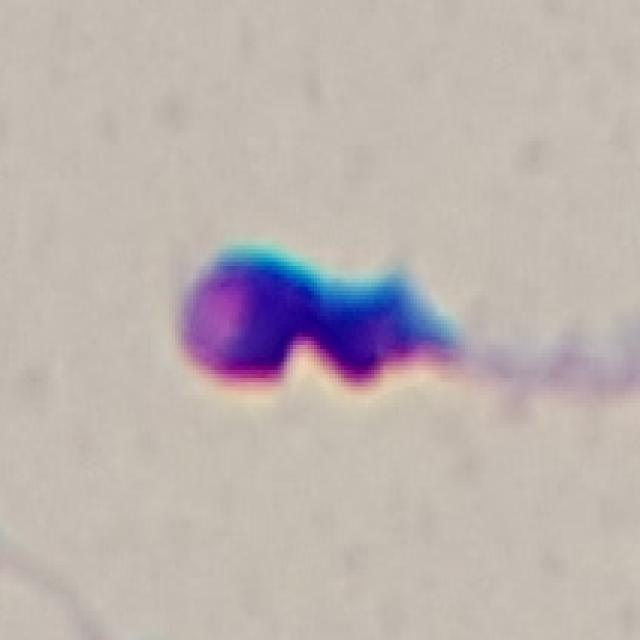abnormal sperm: (174, 222, 608, 411)
